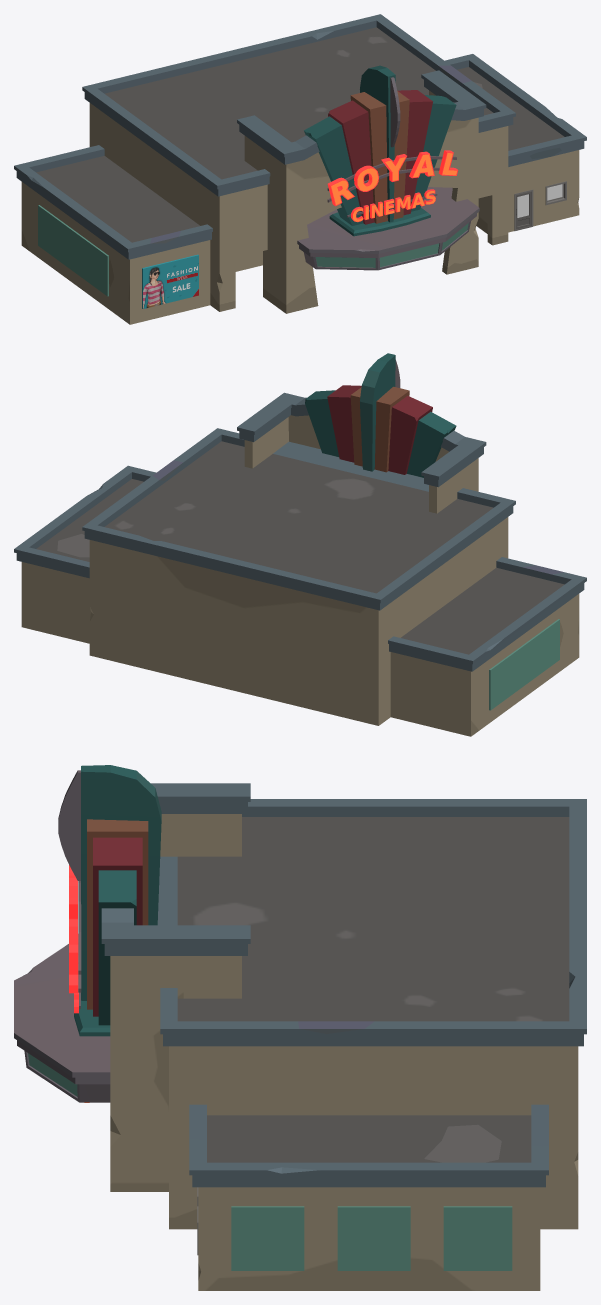
File: SM_Bldg_City_Cinema.fbx
3 renders of one model, top to bottom at view 1: azimuth 30°, elevation 25°; view 2: azimuth 150°, elevation 25°; view 3: azimuth 270°, elevation 25°, orthographic. The views are drawn at different scales.
Visible parts, largest first — view 1: Z, SM_Bldg_City_Cinema_Door_05; view 2: Z; view 3: Z.
Part boxes in pixels (<box>): Z: <box>14,14,586,324</box>; SM_Bldg_City_Cinema_Door_05: <box>516,192,531,229</box>; Z: <box>14,353,586,736</box>; Z: <box>14,765,586,1290</box>.
Size of the model in its own units: 2860 by 1318 by 1960.
